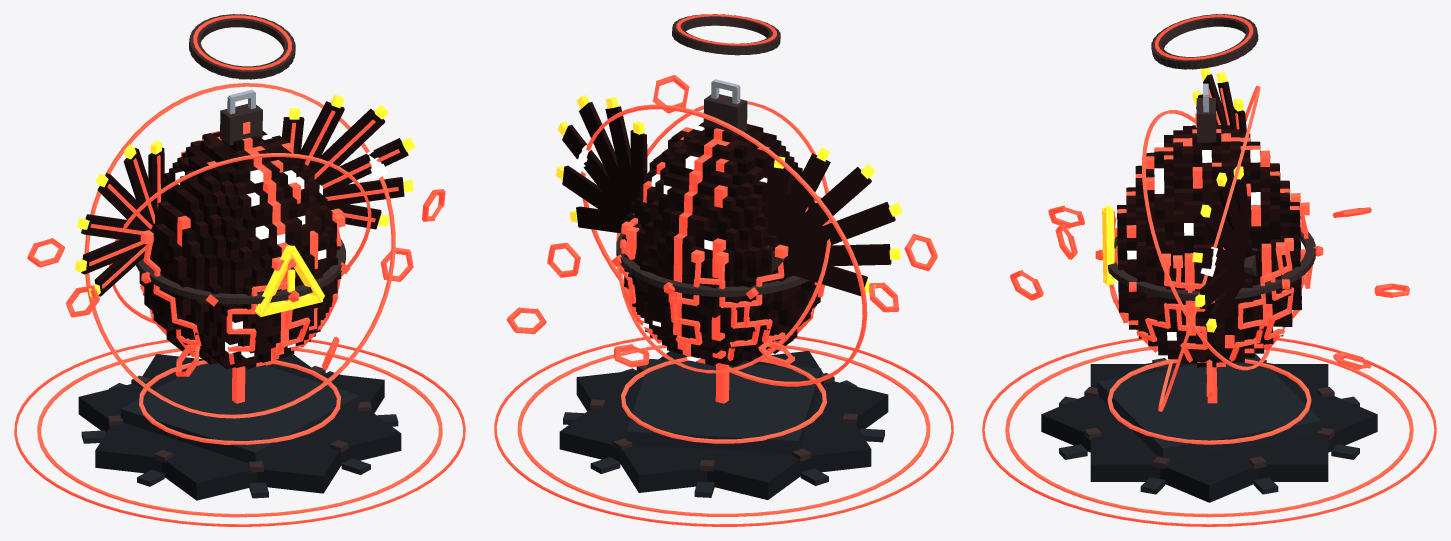
File: egg_hacker_firewall.glb
The picture shows the model from 3 angles, left to right: view 1: azimuth 30°, elevation 25°; view 2: azimuth 150°, elevation 25°; view 3: azimuth 270°, elevation 25°; orthographic projection.
Parts seen in each view (by area): view 1: root_geo, shell_geo, wing_L_geo, wing_R_geo, floor_rings_geo, egg_geo, orbit1_geo, halo_geo, emblem_geo, orbit2_geo, crown_geo, float4_geo; view 2: root_geo, shell_geo, wing_R_geo, wing_L_geo, egg_geo, floor_rings_geo, orbit1_geo, halo_geo, orbit2_geo, crown_geo, float3_geo, float0_geo (+1 smaller); view 3: root_geo, shell_geo, egg_geo, floor_rings_geo, wing_L_geo, halo_geo, orbit1_geo, orbit2_geo, wing_R_geo, crown_geo, emblem_geo.
Part boxes in pixels (<box>): root_geo: <box>78,354,401,500</box>; shell_geo: <box>139,130,341,403</box>; wing_L_geo: <box>282,94,414,229</box>; wing_R_geo: <box>75,140,164,297</box>; floor_rings_geo: <box>14,339,465,526</box>; egg_geo: <box>136,208,350,364</box>; orbit1_geo: <box>84,83,395,418</box>; halo_geo: <box>189,14,295,79</box>; emblem_geo: <box>255,245,324,316</box>; orbit2_geo: <box>109,153,371,323</box>; crown_geo: <box>220,89,262,145</box>; float4_geo: <box>66,285,99,317</box>; root_geo: <box>559,351,888,499</box>; shell_geo: <box>620,122,822,403</box>; wing_R_geo: <box>763,147,902,295</box>; wing_L_geo: <box>556,95,647,233</box>; egg_geo: <box>611,221,825,360</box>; floor_rings_geo: <box>494,336,953,526</box>; orbit1_geo: <box>575,104,867,386</box>; halo_geo: <box>672,14,780,55</box>; orbit2_geo: <box>616,101,831,373</box>; crown_geo: <box>703,79,747,136</box>; float3_geo: <box>904,233,937,271</box>; float0_geo: <box>547,242,580,277</box>; root_geo: <box>1041,354,1377,502</box>; shell_geo: <box>1114,125,1310,403</box>; egg_geo: <box>1095,193,1323,362</box>; floor_rings_geo: <box>982,338,1436,526</box>; wing_L_geo: <box>1192,166,1257,332</box>; halo_geo: <box>1151,14,1258,69</box>; orbit1_geo: <box>1158,85,1260,411</box>; orbit2_geo: <box>1142,110,1271,370</box>; wing_R_geo: <box>1192,67,1246,133</box>; crown_geo: <box>1195,83,1216,142</box>; emblem_geo: <box>1102,205,1114,284</box>.
Size of the model in its own units: 9.46 by 9.22 by 9.46.
